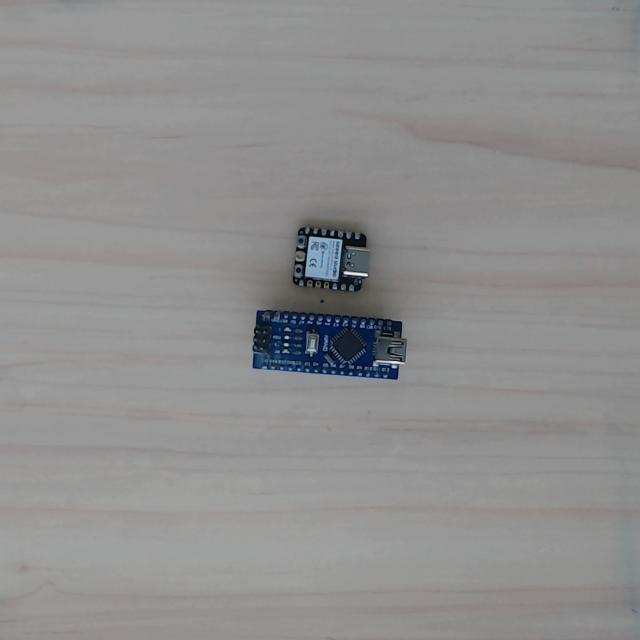Arduino-Nano: (250, 308, 409, 382)
ESP32C3-Xiao: (292, 226, 372, 293)
